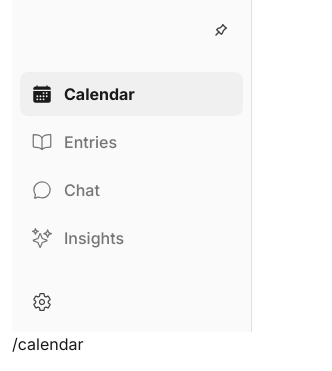
Scenario: Sidebar AI Access Gating › allows navigation to Chat when API key exists
Click the link "Chat" at [66, 190], box [32,180,100,200]
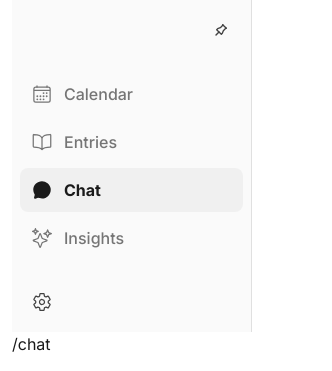
Check: the text with test id "location" reads "/chat", box [12,334,51,354]
